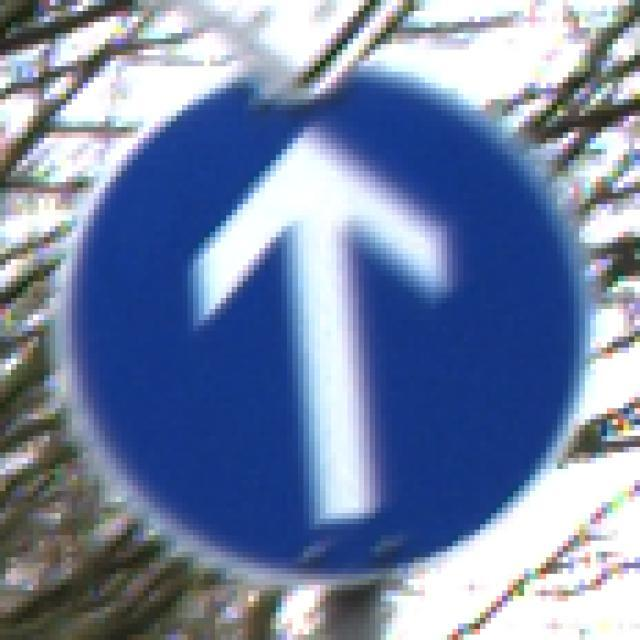compulsary ahead: (42, 41, 607, 595)
